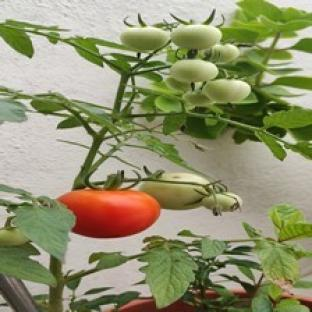Tomato: (58, 190, 160, 238), (140, 173, 208, 210), (172, 24, 221, 50), (120, 27, 169, 51), (170, 59, 218, 83), (202, 80, 250, 103), (201, 193, 242, 214), (0, 228, 29, 246), (211, 44, 239, 62), (183, 91, 214, 107), (165, 77, 190, 91)
